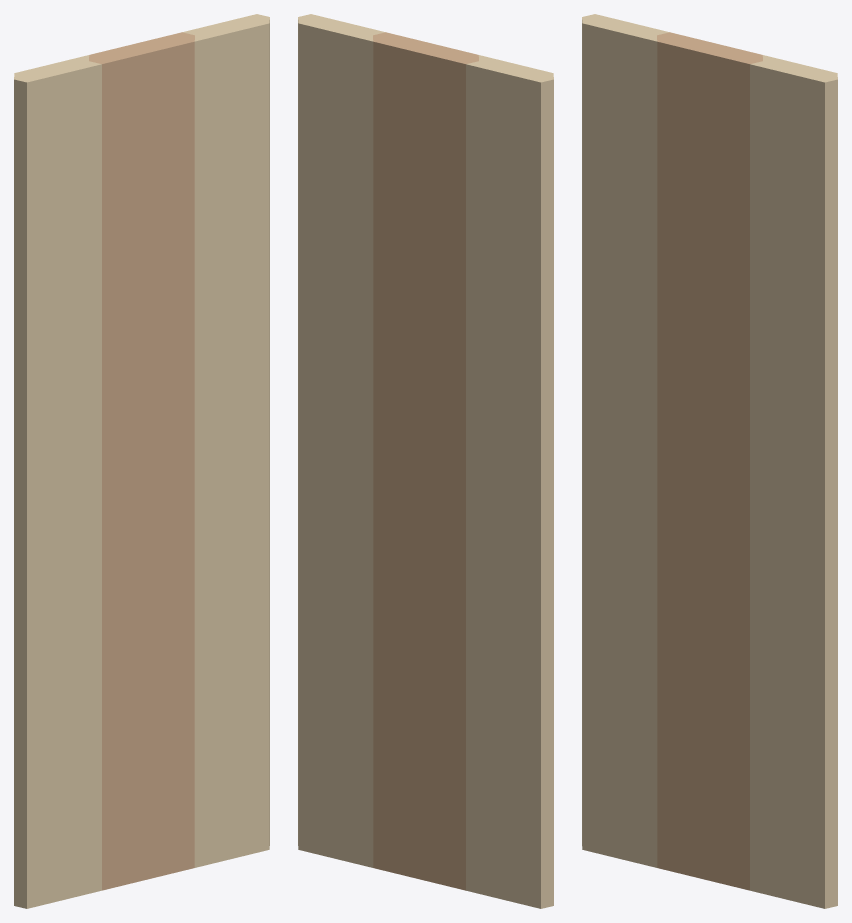
File: Plank.fbx
3 views of the same model, side by side, from view 1: azimuth 30°, elevation 25°; view 2: azimuth 150°, elevation 25°; view 3: azimuth 330°, elevation 25° (orthographic).
Visible parts, largest first — view 1: Plank; view 2: Plank; view 3: Plank.
Boxes of the visible parts, box(x1,y1,x2,y2) form: Plank: box(14, 14, 269, 908); Plank: box(298, 14, 553, 908); Plank: box(582, 14, 837, 908).
Bounding box in the file's own units: 130 × 400 × 11.19.
